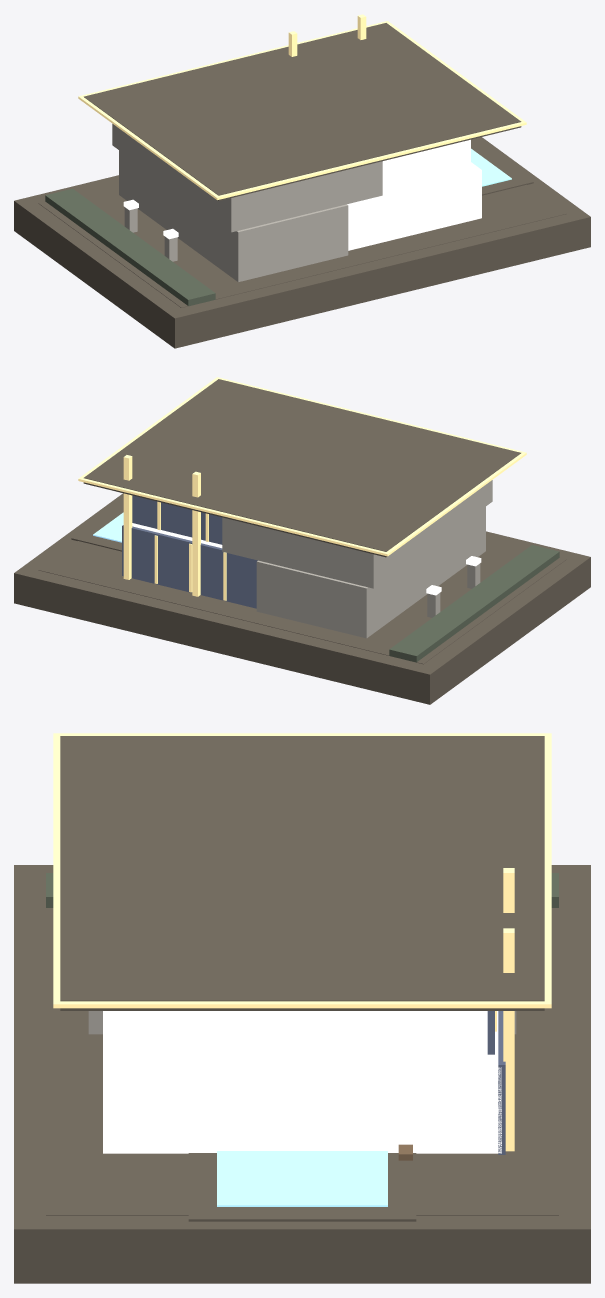
The model's file is villa.glb.
The picture shows the model from 3 angles, top to bottom: view 1: azimuth 30°, elevation 25°; view 2: azimuth 150°, elevation 25°; view 3: azimuth 270°, elevation 25°; orthographic projection. The views are drawn at different scales.
Visible parts, largest first — view 1: Roof, PlinthEdge, GroundStone, PlinthTop, UpperStone, GroundGlow, Hedge, RoofEdge, UpperGlow, PoolDeck, Pool; view 2: Roof, PlinthEdge, GroundStone, PlinthTop, UpperStone, GroundGlass, Hedge, RoofEdge, UpperGlass, Column_3.4, Column_1.4, PoolDeck (+1 smaller); view 3: Roof, PlinthEdge, GroundGlow, PlinthTop, UpperGlow, RoofEdge, Pool, PoolDeck, Column_3.4, GroundGlass.
Boxes of the visible parts, box(x1,y1,x2,y2) form: Roof: box(84, 23, 521, 200); PlinthEdge: box(14, 137, 590, 348); GroundStone: box(119, 150, 348, 282); PlinthTop: box(38, 183, 566, 307); UpperStone: box(112, 124, 382, 232); GroundGlow: box(347, 162, 481, 250); Hedge: box(45, 188, 215, 306); RoofEdge: box(78, 21, 526, 200); UpperGlow: box(382, 139, 470, 186); PoolDeck: box(471, 139, 533, 195); Pool: box(471, 148, 511, 186); Roof: box(83, 379, 520, 557); PlinthEdge: box(14, 493, 590, 704); GroundStone: box(256, 506, 485, 638); PlinthTop: box(38, 539, 566, 664); UpperStone: box(222, 480, 492, 588); GroundGlass: box(122, 525, 257, 608); Hedge: box(389, 545, 559, 662); RoofEdge: box(78, 377, 526, 556); UpperGlass: box(132, 495, 222, 544); Column_3.4: box(123, 455, 132, 579); Column_1.4: box(192, 471, 200, 596); PoolDeck: box(71, 500, 123, 551); Roof: box(60, 736, 544, 1010); PlinthEdge: box(14, 865, 590, 1283); GroundGlow: box(103, 1011, 501, 1153); PlinthTop: box(46, 908, 558, 1215); UpperGlow: box(117, 1011, 487, 1054); RoofEdge: box(53, 733, 551, 1008); Pool: box(217, 1151, 387, 1206); PoolDeck: box(188, 1153, 416, 1221); Column_3.4: box(503, 928, 514, 1151); GroundGlass: box(498, 1011, 505, 1154).
Bounding box in the file's own units: 12.1 × 4.23 × 8.1.
